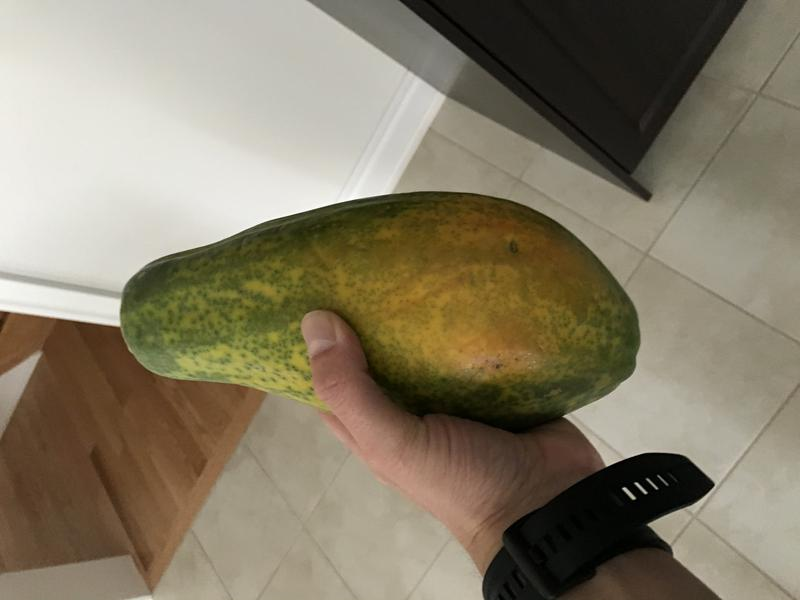papaya: (107, 181, 654, 447)
